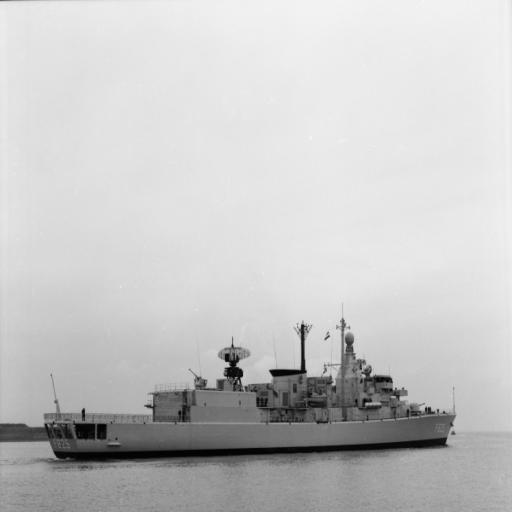Fragata: (44, 298, 461, 460)
